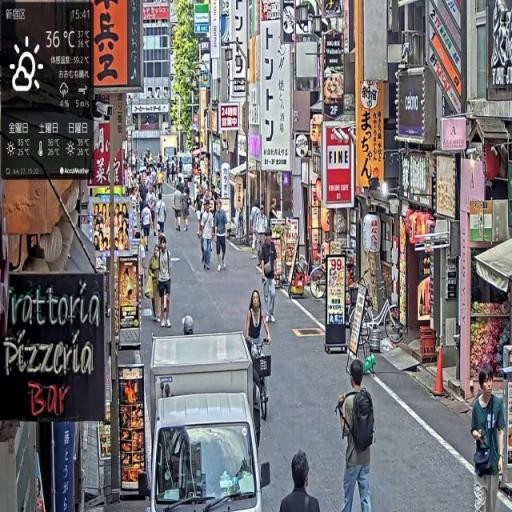person: (337, 358, 378, 512), (470, 368, 508, 512), (245, 291, 272, 425), (279, 450, 323, 512), (260, 229, 280, 323), (155, 236, 173, 331), (200, 200, 216, 273), (215, 198, 230, 272), (173, 184, 185, 235)
